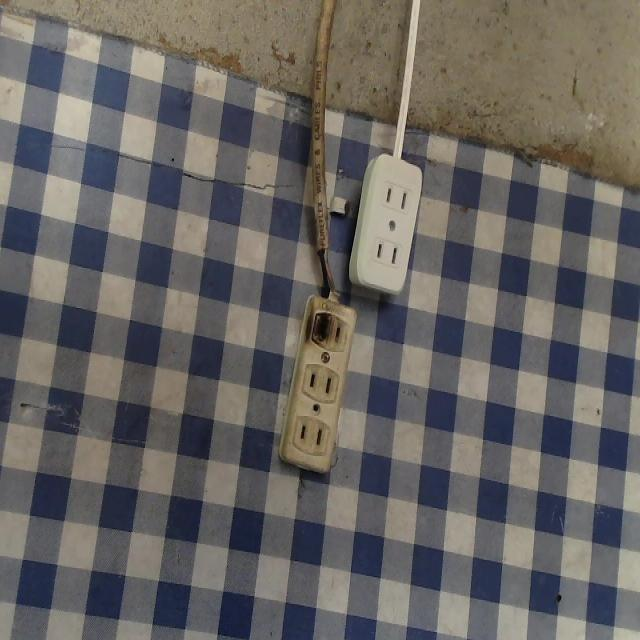-: (307, 304, 333, 348)
